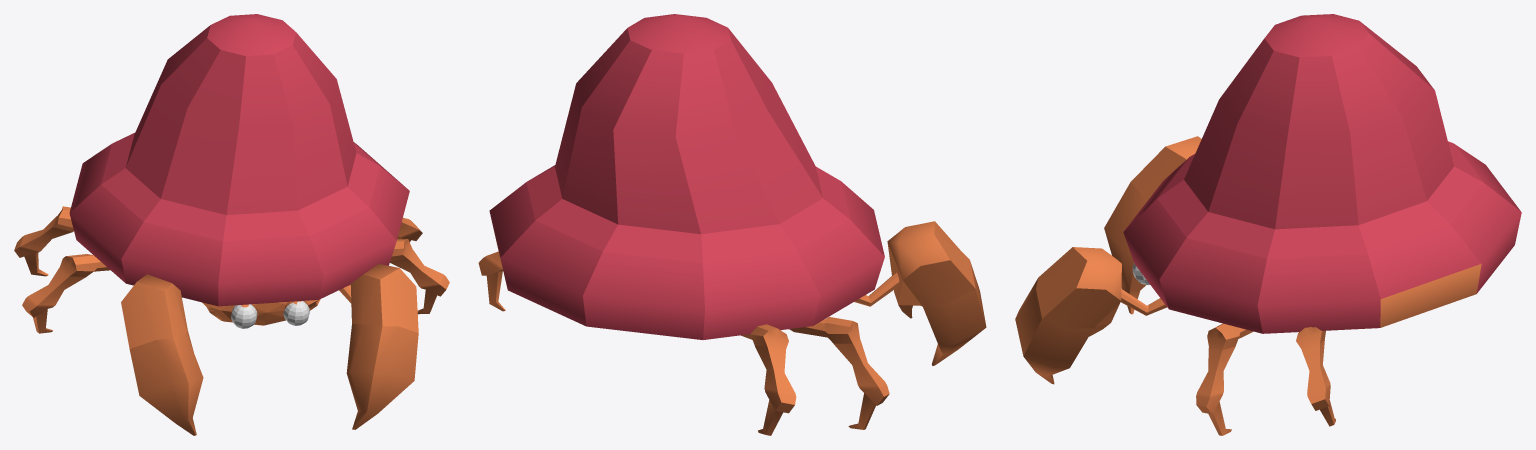
The model's file is parasect.glb.
3 renders of one model, left to right at view 1: azimuth 30°, elevation 25°; view 2: azimuth 150°, elevation 25°; view 3: azimuth 270°, elevation 25°, orthographic. The views are drawn at different scales.
Visible parts, largest first — view 1: parasect; view 2: parasect; view 3: parasect.
Boxes of the visible parts, bbox=[...] form: parasect: bbox=[14, 14, 449, 435]; parasect: bbox=[478, 14, 986, 435]; parasect: bbox=[1015, 14, 1521, 435].
Bounding box in the file's own units: 0.1457 × 0.1214 × 0.1495.
